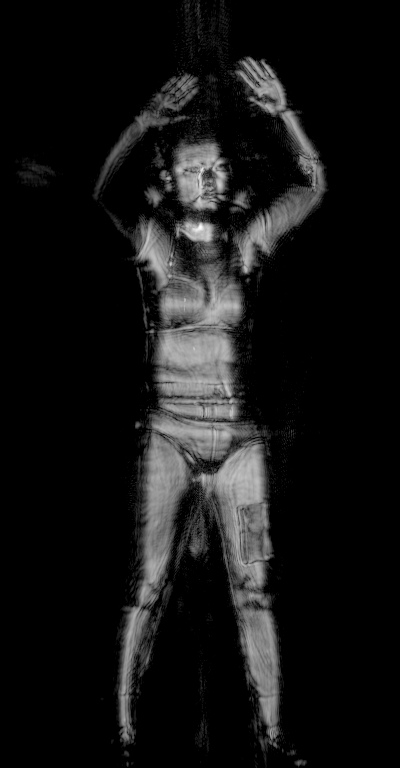head: (157, 136, 234, 218)
others: (231, 500, 280, 567), (296, 149, 321, 196)
person: (91, 54, 326, 768)
